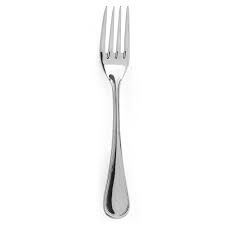fork: (97, 3, 134, 221)
